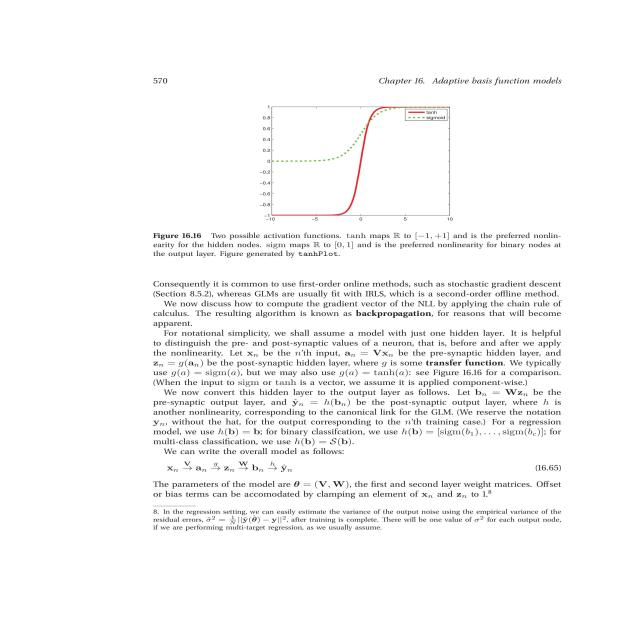diagram: (87, 90, 614, 267)
